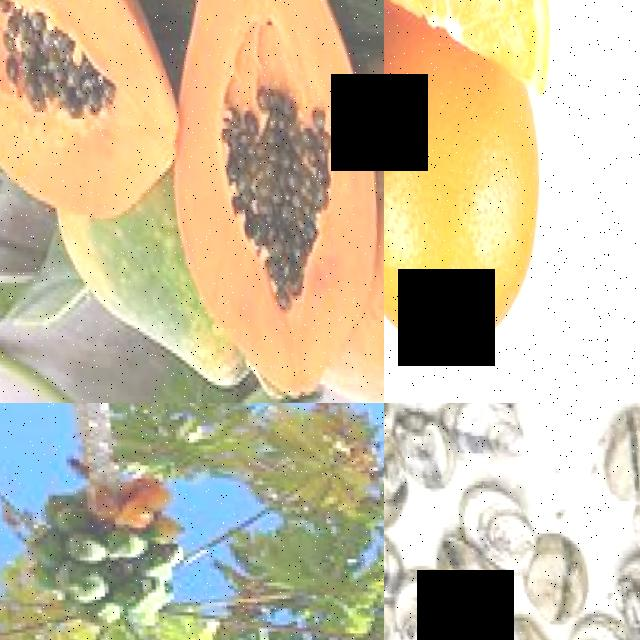orange: (384, 56, 556, 362)
oysters: (454, 480, 533, 576), (421, 539, 508, 624), (520, 528, 591, 629), (441, 403, 532, 470), (393, 413, 457, 497), (593, 403, 640, 501), (561, 615, 633, 640)
pawpaw: (155, 0, 384, 387), (0, 0, 183, 224), (357, 43, 384, 403)
